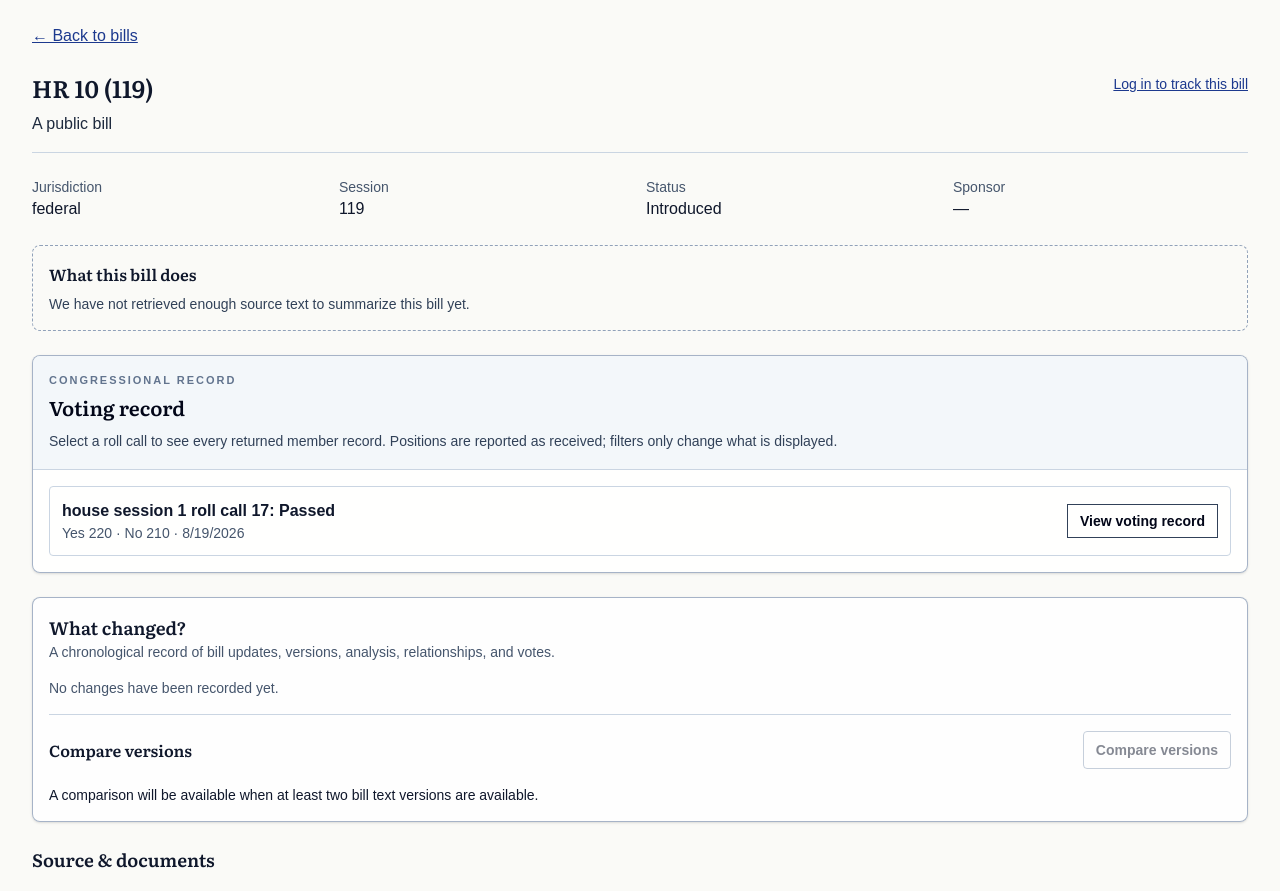
BillDetailPage › keeps a public bill readable while showing an unauthenticated tracking prompt
Expected: the heading "HR 10 (119)" is shown, [32,72,154,104]
Expected: the text "A public bill" is shown, [32,115,112,132]
What coordinates should you click on to do the following:
click the button "View voting record"
I would click on:
 (1142, 520)
Its box is [1067,504,1218,538].
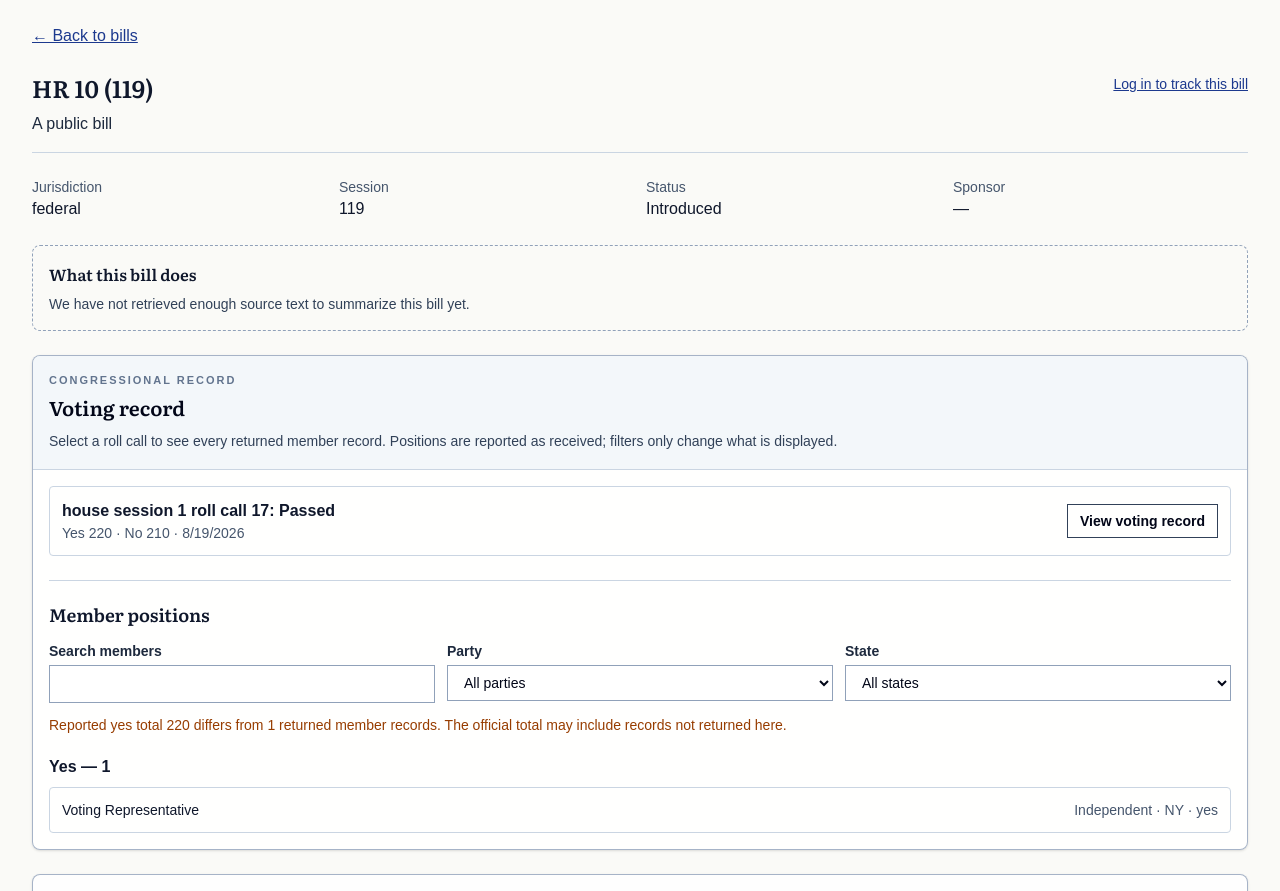
Expected: the text "Voting Representative" is shown, [62,800,199,820]
